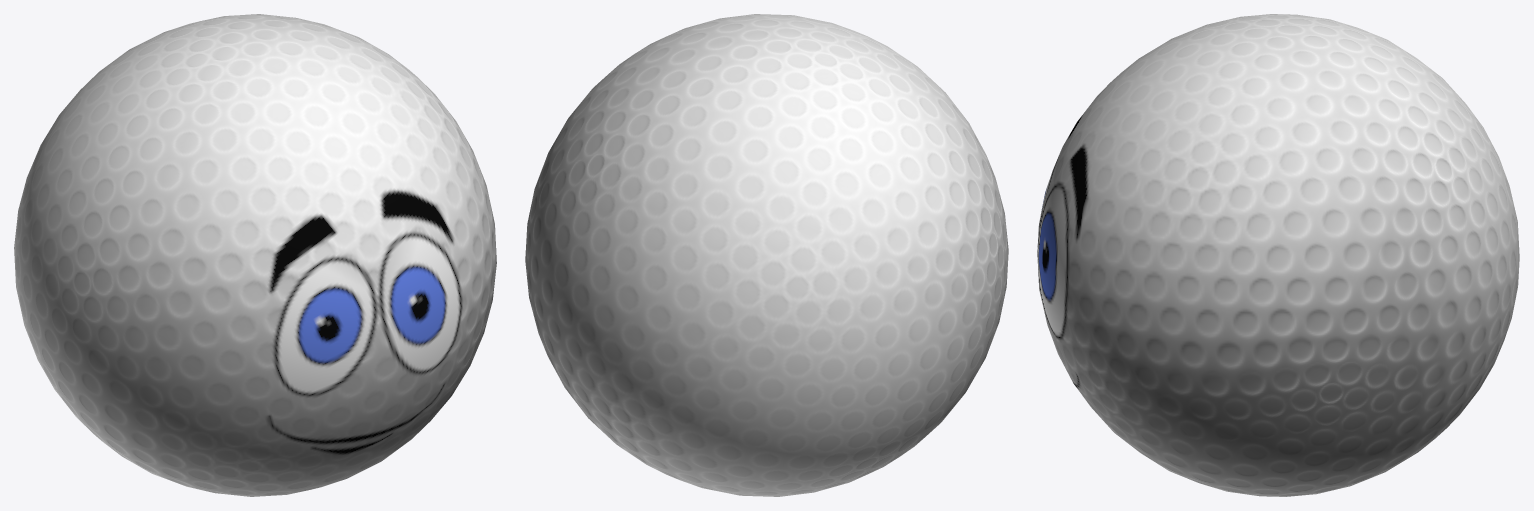
File: golf-head.glb
3 views of the same model, side by side, from view 1: azimuth 30°, elevation 25°; view 2: azimuth 150°, elevation 25°; view 3: azimuth 270°, elevation 25° (orthographic).
Parts seen in each view (by area): view 1: GolfHead; view 2: GolfHead; view 3: GolfHead.
Part boxes in pixels (bbox=[...]): GolfHead: bbox=[14, 14, 496, 496]; GolfHead: bbox=[525, 14, 1008, 496]; GolfHead: bbox=[1037, 14, 1519, 496].
Size of the model in its own units: 0.7132 by 0.7131 by 0.7125.
1 material, 1 textured.
